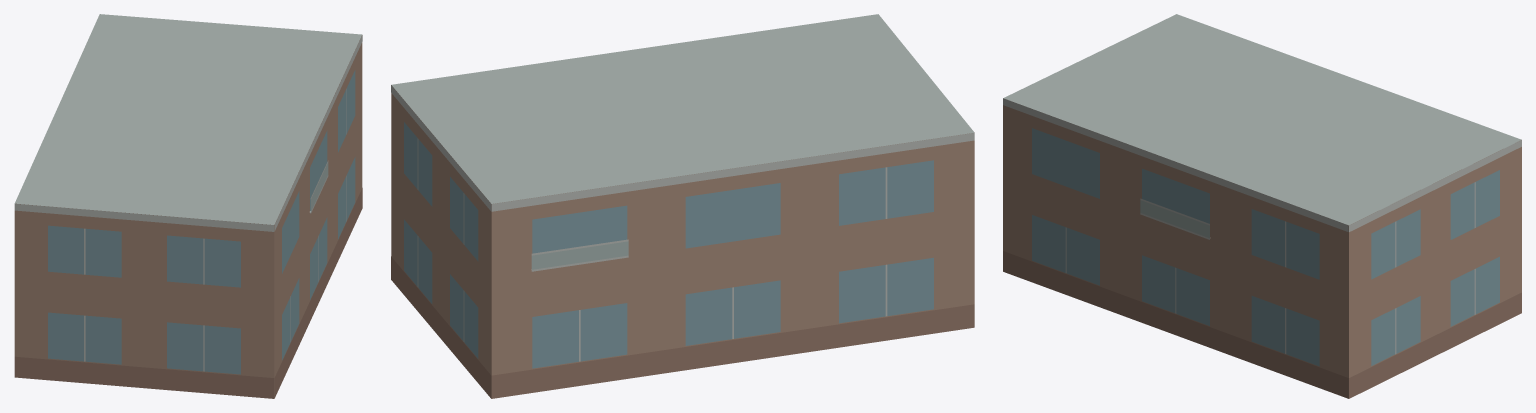
Rendered from survey-upis-32671081.glb.
3 views of the same model, side by side, from view 1: azimuth 30°, elevation 25°; view 2: azimuth 150°, elevation 25°; view 3: azimuth 270°, elevation 25° (orthographic). The views are drawn at different scales.
Visible parts, largest first — view 1: survey-upis-32671081.tmp; view 2: survey-upis-32671081.tmp; view 3: survey-upis-32671081.tmp.
Part boxes in pixels (x1,y1,x2,y2): survey-upis-32671081.tmp: (14, 14, 362, 398); survey-upis-32671081.tmp: (391, 14, 974, 398); survey-upis-32671081.tmp: (1003, 14, 1521, 398).
Size of the model in its own units: 15.95 by 6.1 by 16.54.
